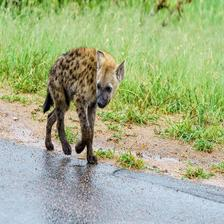hyena: (41, 43, 128, 174)
